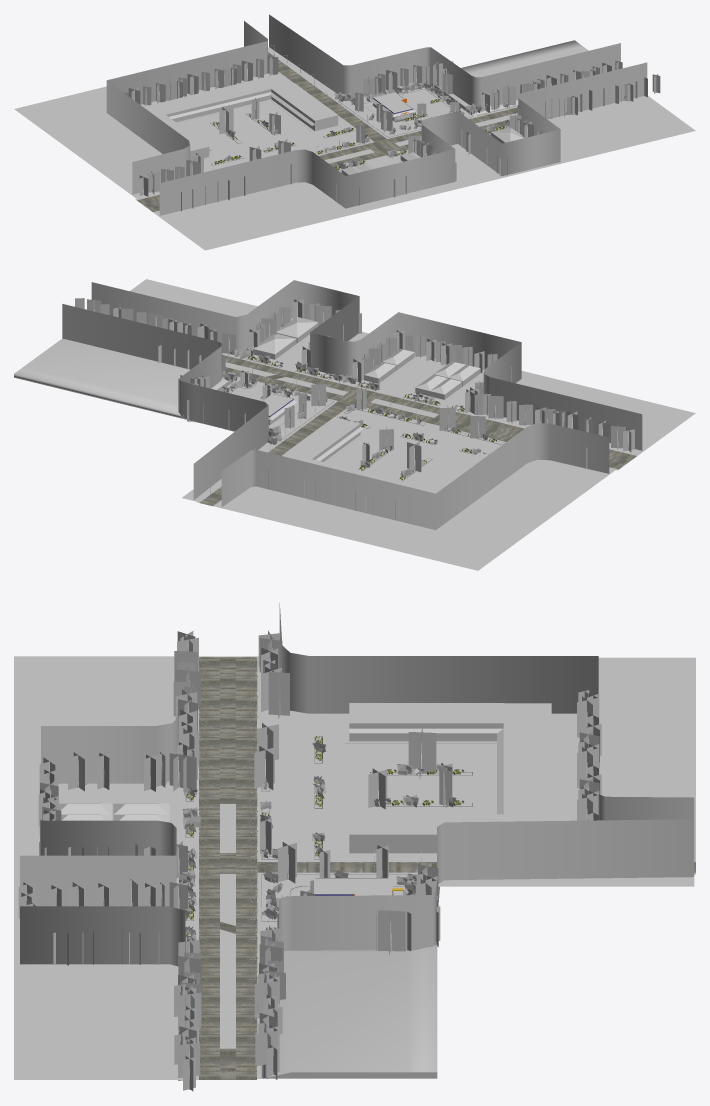
Rendered from BurgerPiz.fbx.
3 renders of one model, top to bottom at view 1: azimuth 30°, elevation 25°; view 2: azimuth 150°, elevation 25°; view 3: azimuth 270°, elevation 25°, orthographic. The views are drawn at different scales.
Visible parts, largest first — view 1: Background, sidewalk.001, Grass, Building, Building.001, Building.002, garden, AsphaltDamaged, Building.003, BurgerPiz; view 2: Background, sidewalk.001, Grass, Building, garden, Building_01, Building_01.001, AsphaltDamaged, Building.003, BurgerPiz; view 3: sidewalk.001, Background, Grass, Building.003, Building, Building.002, garden, Building.001, BurgerPiz, Tree_01.004, Tree_01.009, Tree.020 (+1 smaller).
Part boxes in pixels (x1,y1,x2,y2): Background: (106,14,647,215); sidewalk.001: (14,50,695,250); Grass: (437,40,588,116); Building: (270,83,338,130); Building.001: (205,73,293,111); Building.002: (143,92,219,122); garden: (268,47,473,137); AsphaltDamaged: (363,89,450,126); Building.003: (157,115,211,160); BurgerPiz: (373,92,413,121); Background: (62,280,642,530); sidewalk.001: (130,279,695,570); Grass: (14,339,237,418); Building: (285,417,363,461); garden: (182,378,333,501); Building_01: (253,333,296,359); Building_01.001: (276,317,318,343); AsphaltDamaged: (230,382,298,429); Building.003: (431,452,488,490); BurgerPiz: (262,393,293,424); sidewalk.001: (14,656,695,1079); Background: (20,603,694,1027); Grass: (261,945,437,1078); Building.003: (349,703,503,741); Building: (349,814,503,853); Building.002: (497,703,551,776); garden: (261,874,694,944); Building.001: (497,769,551,821); BurgerPiz: (314,878,389,895); Tree_01.004: (378,910,405,955); Tree_01.009: (408,727,436,779); Tree.020: (268,669,289,718).
Size of the model in its own units: 40663 by 2690 by 26959.
